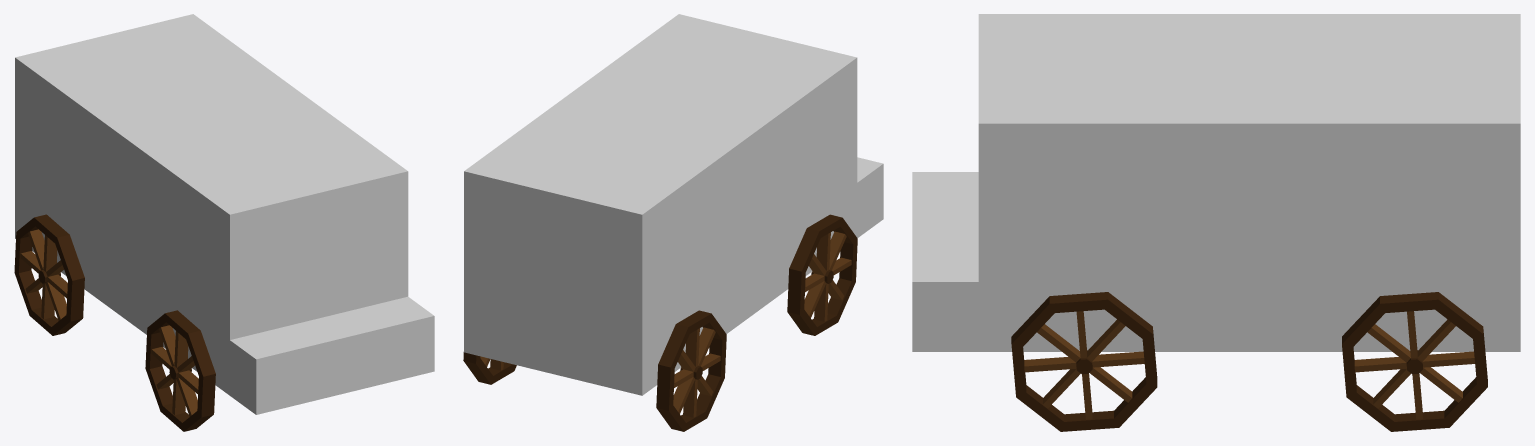
File: Car.fbx
3 views of the same model, side by side, from view 1: azimuth 30°, elevation 25°; view 2: azimuth 150°, elevation 25°; view 3: azimuth 270°, elevation 25° (orthographic). The views are drawn at different scales.
Parts seen in each view (by area): view 1: Cube.001, Cylinder.004, Cylinder.005; view 2: Cube.001, Cylinder.004, Cylinder.005; view 3: Cube.001, Cylinder.005, Cylinder.004.
Boxes of the visible parts, box(x1,y1,x2,y2) form: Cube.001: box(15, 14, 434, 414); Cylinder.004: box(14, 214, 84, 335); Cylinder.005: box(145, 310, 215, 431); Cube.001: box(464, 14, 883, 395); Cylinder.004: box(463, 310, 726, 431); Cylinder.005: box(787, 214, 857, 335); Cube.001: box(912, 14, 1520, 351); Cylinder.005: box(1011, 292, 1157, 431); Cylinder.004: box(1342, 292, 1487, 431).
Size of the model in its own units: 3.16 by 3.44 by 6.32.
